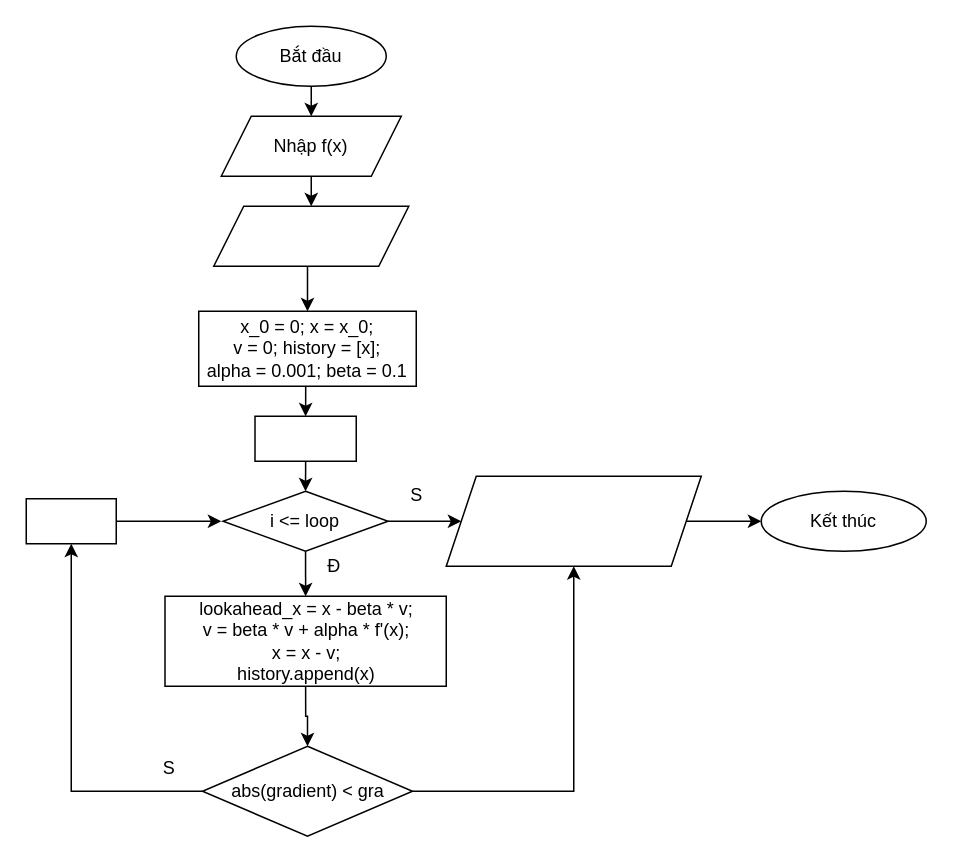
Image size: 953x863. Some labels were removed from this diagram. The shapes that lost their labels are listed below. From the top down, each one's box as (x1, y1, x2, y2) in pixels, then its label:
(212, 205, 409, 266): Nhập f'(x)
(254, 415, 356, 461): i = 0
(25, 497, 116, 544): i++
(445, 475, 701, 566): In ra x_min = x và y_min = f(x_min)
